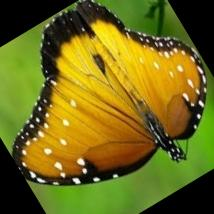butterfly: (12, 0, 207, 184)
